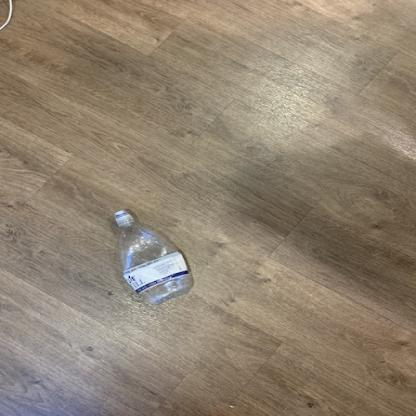trash: (113, 210, 195, 304)
